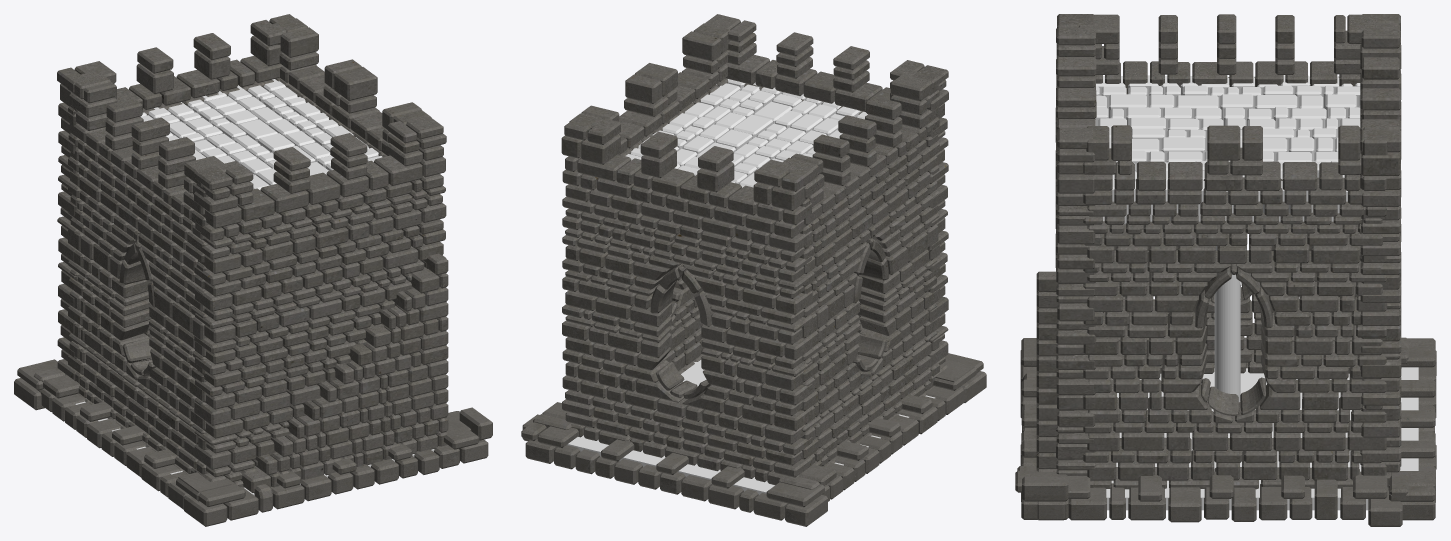
The model's file is wall tanker.fbx.
3 views of the same model, side by side, from view 1: azimuth 30°, elevation 25°; view 2: azimuth 150°, elevation 25°; view 3: azimuth 270°, elevation 25° (orthographic). The views are drawn at different scales.
Parts seen in each view (by area): view 1: Wall.028, Wall.029, Wall.027, Wall.038, Wall.030, Wall.031, Wall.034; view 2: Wall.027, Wall.029, Wall.028, Wall.038, Wall.034, Wall.031, Cube.001, Wall.030, Wall.033; view 3: Wall.027, Wall.028, Wall.038, Wall.029, Wall.033, Wall.034, Wall.030, Plane.002, Cube.001.
Part boxes in pixels (x1,y1,x2,y2): Wall.028: [194, 114, 448, 492]; Wall.029: [67, 70, 226, 474]; Wall.027: [57, 14, 431, 381]; Wall.038: [140, 79, 382, 190]; Wall.030: [184, 407, 492, 526]; Wall.031: [34, 368, 231, 509]; Wall.034: [14, 359, 57, 410]; Wall.027: [561, 23, 813, 485]; Wall.029: [776, 71, 939, 467]; Wall.028: [703, 14, 948, 389]; Wall.038: [625, 79, 867, 187]; Wall.034: [521, 422, 827, 526]; Wall.031: [778, 359, 976, 501]; Cube.001: [567, 395, 935, 494]; Wall.030: [945, 353, 986, 402]; Wall.033: [522, 402, 571, 441]; Wall.027: [1082, 14, 1401, 489]; Wall.028: [1036, 14, 1096, 487]; Wall.038: [1095, 75, 1361, 224]; Wall.029: [1078, 14, 1378, 373]; Wall.033: [1037, 471, 1408, 526]; Wall.034: [1388, 338, 1436, 520]; Wall.030: [1015, 338, 1068, 519]; Plane.002: [1112, 246, 1361, 471]; Cube.001: [1106, 367, 1418, 510].
Size of the model in its own units: 1977 by 2060 by 2137.
